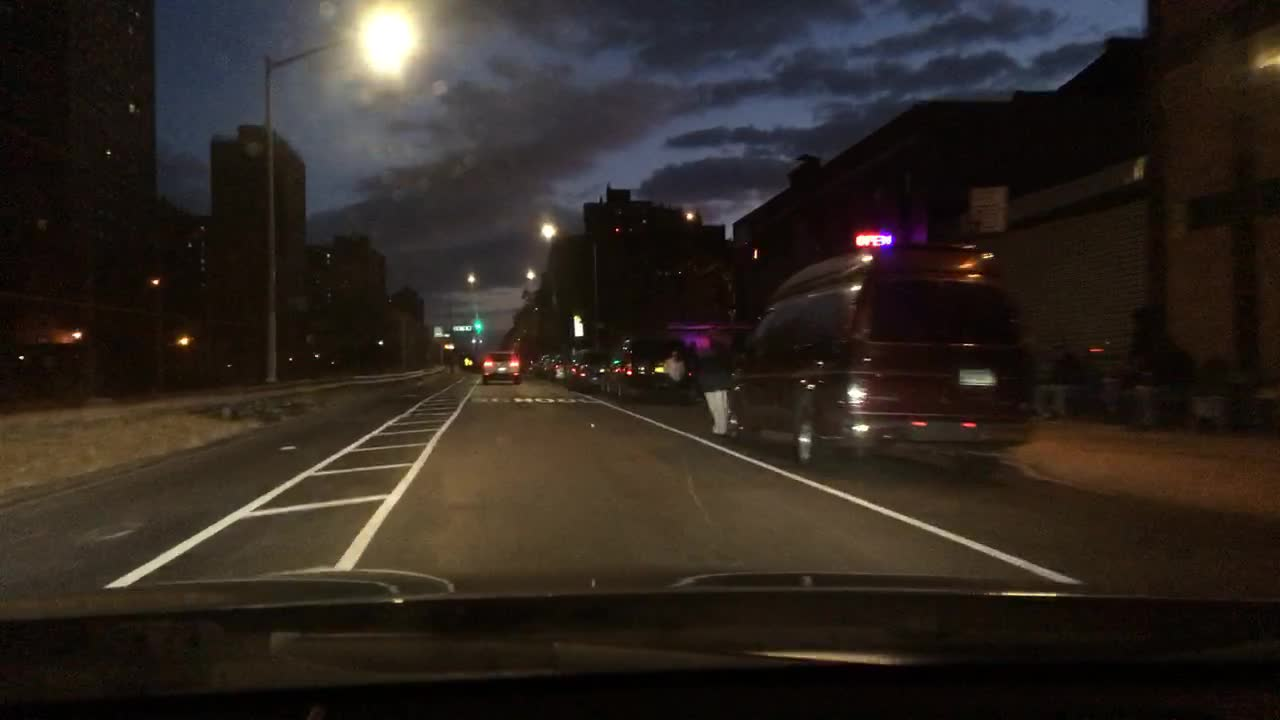car: (725, 241, 1039, 480), (664, 322, 754, 406), (597, 336, 692, 402), (101, 333, 193, 390), (23, 340, 109, 398), (1, 335, 41, 400), (560, 348, 613, 389), (480, 353, 522, 385), (544, 352, 565, 381), (526, 352, 550, 377)
person: (1122, 305, 1193, 427), (692, 336, 732, 438), (1043, 351, 1086, 419), (659, 346, 689, 407)
traffic sign: (971, 183, 1008, 232), (572, 314, 584, 338), (451, 321, 473, 332), (434, 325, 452, 338), (457, 360, 474, 366)
